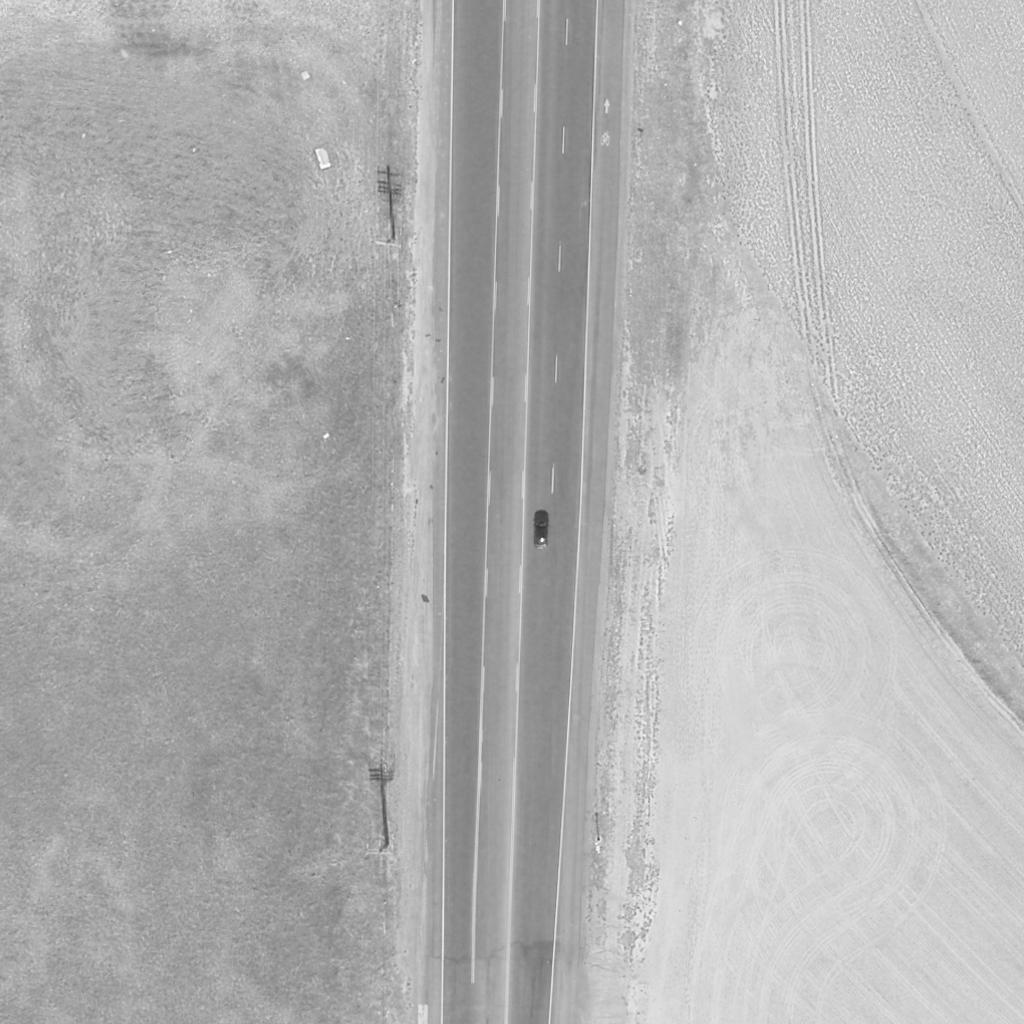vehicle: (533, 509, 549, 549)
